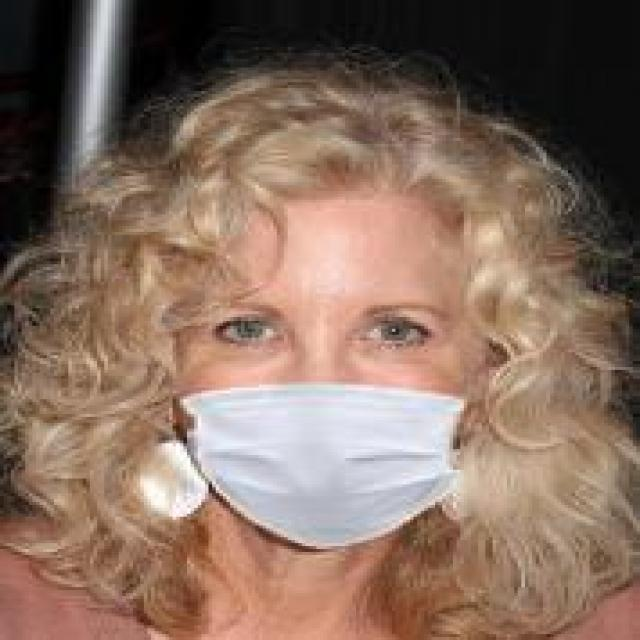mask: (90, 56, 590, 570)
